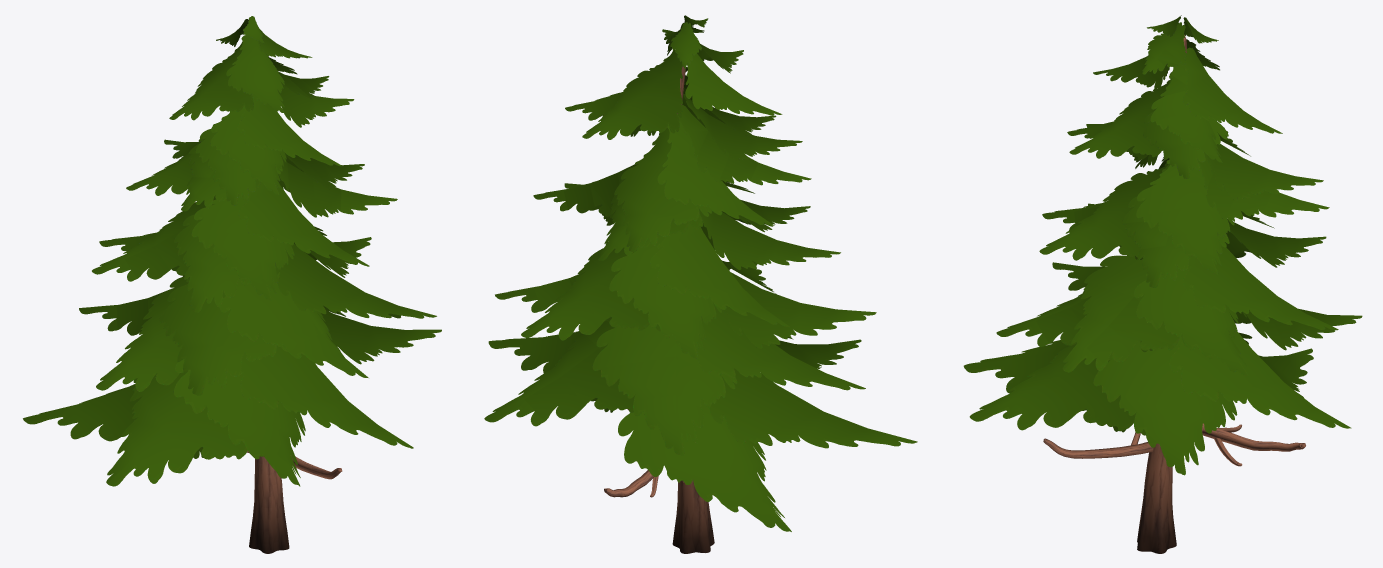
Rendered from Pine_2.glb.
3 views of the same model, side by side, from view 1: azimuth 30°, elevation 25°; view 2: azimuth 150°, elevation 25°; view 3: azimuth 270°, elevation 25° (orthographic). The views are drawn at different scales.
Parts seen in each view (by area): view 1: Pine_2; view 2: Pine_2; view 3: Pine_2.
Boxes of the visible parts, bbox=[...] form: Pine_2: bbox=[23, 16, 441, 553]; Pine_2: bbox=[484, 15, 917, 553]; Pine_2: bbox=[963, 15, 1362, 553].
Bounding box in the file's own units: 5.73 × 7.38 × 5.22.
Materials: 2 (2 with a texture image).
